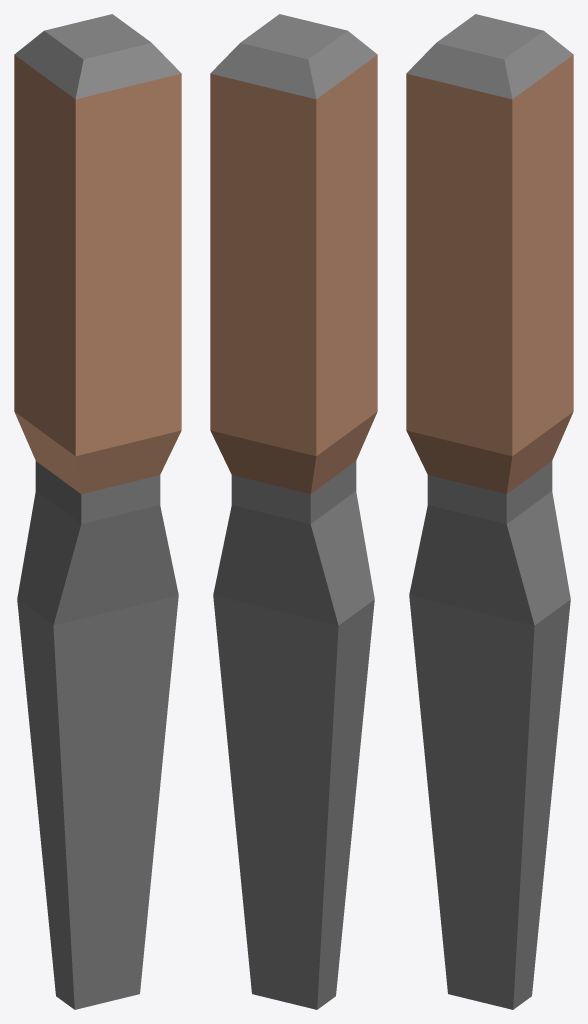
Rendered from chisel.fbx.
3 views of the same model, side by side, from view 1: azimuth 30°, elevation 25°; view 2: azimuth 150°, elevation 25°; view 3: azimuth 330°, elevation 25° (orthographic).
Parts seen in each view (by area): view 1: Cube; view 2: Cube; view 3: Cube.
Boxes of the visible parts, x1,y1,x2,y2 form: Cube: [14, 14, 181, 1009]; Cube: [210, 14, 377, 1009]; Cube: [406, 14, 573, 1009].
Bounding box in the file's own units: 117 × 853 × 98.86.
